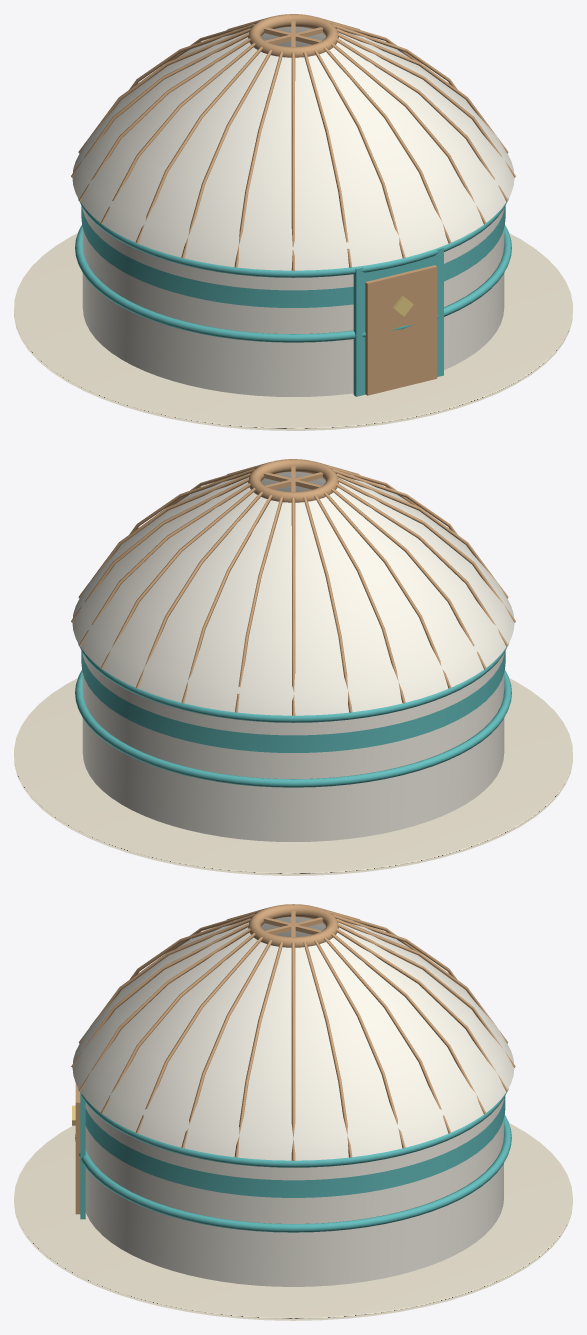
The model's file is yurt.glb.
3 views of the same model, one above another, from view 1: azimuth 30°, elevation 25°; view 2: azimuth 150°, elevation 25°; view 3: azimuth 270°, elevation 25° (orthographic).
Parts seen in each view (by area): view 1: roof, ground, wall, rib (×17), door, band (×2), belt, doorframe, crown; view 2: roof, wall, ground, rib (×17), band (×2), belt, crown; view 3: roof, wall, ground, rib (×17), band (×2), belt, crown, door, doorframe.
Part boxes in pixels (x1,y1,x2,y2): roof: [72, 27, 514, 270]; ground: [14, 233, 572, 430]; wall: [82, 208, 504, 396]; rib (×17): [71, 23, 515, 270]; door: [365, 265, 437, 395]; band (×2): [75, 198, 511, 342]; belt: [81, 206, 505, 307]; doorframe: [353, 247, 443, 396]; crown: [248, 14, 338, 57]; roof: [72, 472, 514, 715]; wall: [82, 653, 504, 841]; ground: [14, 678, 572, 875]; rib (×17): [71, 468, 515, 715]; band (×2): [75, 643, 511, 787]; belt: [81, 651, 505, 752]; crown: [248, 459, 338, 502]; roof: [72, 917, 514, 1160]; wall: [85, 1099, 503, 1286]; ground: [14, 1123, 572, 1320]; rib (×17): [71, 913, 515, 1160]; band (×2): [75, 1088, 511, 1232]; belt: [85, 1096, 505, 1197]; crown: [248, 904, 338, 947]; door: [75, 1083, 80, 1214]; doorframe: [80, 1092, 85, 1219].
Bounding box in the file's own units: 4.3 × 2.39 × 4.3.
